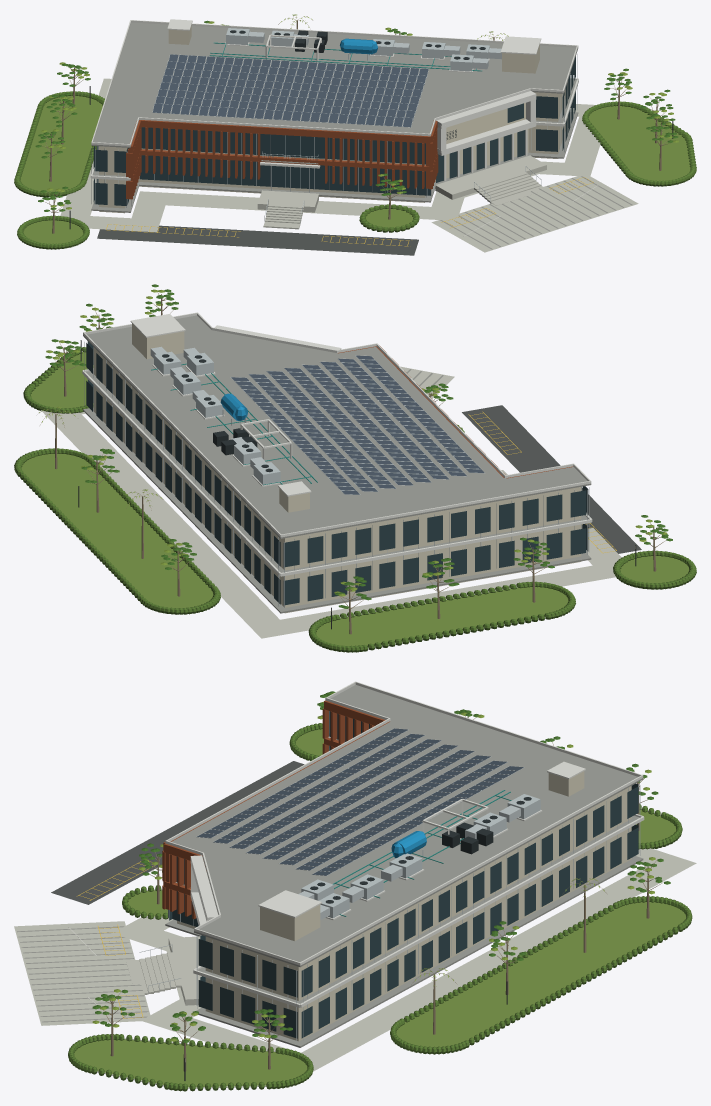
File: canteen-lod2.glb
3 renders of one model, top to bottom at view 1: azimuth 30°, elevation 25°; view 2: azimuth 150°, elevation 25°; view 3: azimuth 270°, elevation 25°, orthographic. The views are drawn at different scales.
Visible parts, largest first — view 1: roof decks and floor slabs | roof.002, deep shaded canteen glazing | blue glass.002, tilted dark solar collector faces | solar.002, connected planted lawns | lawn.002, thick terracotta sun fins | brick.002, white folded wing and parapets | ivory metal.002, site perimeter paving | pale paving.002, internal drive and court paving | pale paving.002, cream service walls | plaster.002, internal drive and court paving | dark paving.002, continuous low hedges | hedge.002, collector aluminium frames and supports | silver metal.002 (+14 smaller); view 2: roof decks and floor slabs | roof.002, connected planted lawns | lawn.002, deep shaded canteen glazing | blue glass.002, cream service walls | plaster.002, tilted dark solar collector faces | solar.002, site perimeter paving | pale paving.002, continuous low hedges | hedge.002, white folded wing and parapets | ivory metal.002, collector aluminium frames and supports | silver metal.002, internal drive and court paving | dark paving.002, layered leaf canopy | leaf shadow.002, rooftop mechanical casings | mechanical.002 (+7 smaller); view 3: roof decks and floor slabs | roof.002, connected planted lawns | lawn.002, deep shaded canteen glazing | blue glass.002, cream service walls | plaster.002, tilted dark solar collector faces | solar.002, site perimeter paving | pale paving.002, white folded wing and parapets | ivory metal.002, internal drive and court paving | pale paving.002, continuous low hedges | hedge.002, collector aluminium frames and supports | silver metal.002, internal drive and court paving | dark paving.002, thick terracotta sun fins | brick.002 (+11 smaller).
Part boxes in pixels (bbox=[...]): roof decks and floor slabs | roof.002: bbox=[91, 22, 578, 212]; deep shaded canteen glazing | blue glass.002: bbox=[93, 56, 575, 205]; tilted dark solar collector faces | solar.002: bbox=[153, 54, 428, 127]; connected planted lawns | lawn.002: bbox=[20, 95, 690, 243]; thick terracotta sun fins | brick.002: bbox=[126, 120, 438, 199]; white folded wing and parapets | ivory metal.002: bbox=[90, 19, 578, 181]; site perimeter paving | pale paving.002: bbox=[60, 78, 600, 232]; internal drive and court paving | pale paving.002: bbox=[431, 176, 638, 252]; cream service walls | plaster.002: bbox=[99, 25, 567, 213]; internal drive and court paving | dark paving.002: bbox=[97, 225, 418, 255]; continuous low hedges | hedge.002: bbox=[14, 91, 696, 249]; collector aluminium frames and supports | silver metal.002: bbox=[152, 53, 428, 127]; roof decks and floor slabs | roof.002: bbox=[83, 315, 591, 613]; connected planted lawns | lawn.002: bbox=[21, 352, 689, 645]; deep shaded canteen glazing | blue glass.002: bbox=[86, 341, 588, 605]; cream service walls | plaster.002: bbox=[93, 323, 581, 613]; tilted dark solar collector faces | solar.002: bbox=[231, 355, 484, 494]; site perimeter paving | pale paving.002: bbox=[41, 410, 621, 638]; continuous low hedges | hedge.002: bbox=[14, 347, 696, 652]; white folded wing and parapets | ivory metal.002: bbox=[82, 312, 592, 576]; collector aluminium frames and supports | silver metal.002: bbox=[222, 355, 484, 494]; internal drive and court paving | dark paving.002: bbox=[462, 405, 641, 553]; layered leaf canopy | leaf shadow.002: bbox=[45, 284, 672, 608]; rooftop mechanical casings | mechanical.002: bbox=[154, 351, 280, 484]; roof decks and floor slabs | roof.002: bbox=[165, 685, 643, 1047]; connected planted lawns | lawn.002: bbox=[74, 729, 686, 1087]; deep shaded canteen glazing | blue glass.002: bbox=[168, 711, 638, 1038]; cream service walls | plaster.002: bbox=[177, 739, 631, 1041]; tilted dark solar collector faces | solar.002: bbox=[197, 728, 523, 875]; site perimeter paving | pale paving.002: bbox=[112, 848, 696, 1071]; white folded wing and parapets | ivory metal.002: bbox=[165, 681, 644, 1007]; internal drive and court paving | pale paving.002: bbox=[14, 921, 150, 1025]; continuous low hedges | hedge.002: bbox=[68, 723, 692, 1091]; collector aluminium frames and supports | silver metal.002: bbox=[196, 728, 524, 875]; internal drive and court paving | dark paving.002: bbox=[51, 761, 304, 904]; thick terracotta sun fins | brick.002: bbox=[162, 700, 389, 919].
Size of the model in its own units: 110 by 16.14 by 85.87.
